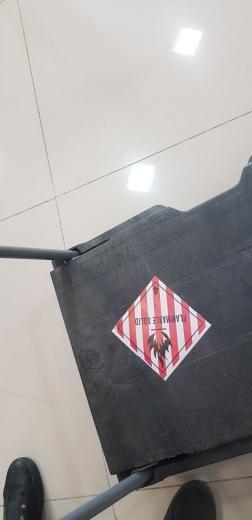flammable-solid: (112, 275, 213, 383)
